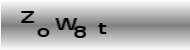8: (73, 25, 87, 39)
W: (54, 17, 78, 31)
Z: (19, 9, 35, 23)
o: (36, 26, 50, 38)
t: (97, 21, 109, 35)
